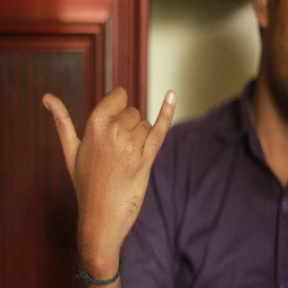J: (42, 64, 177, 216)
